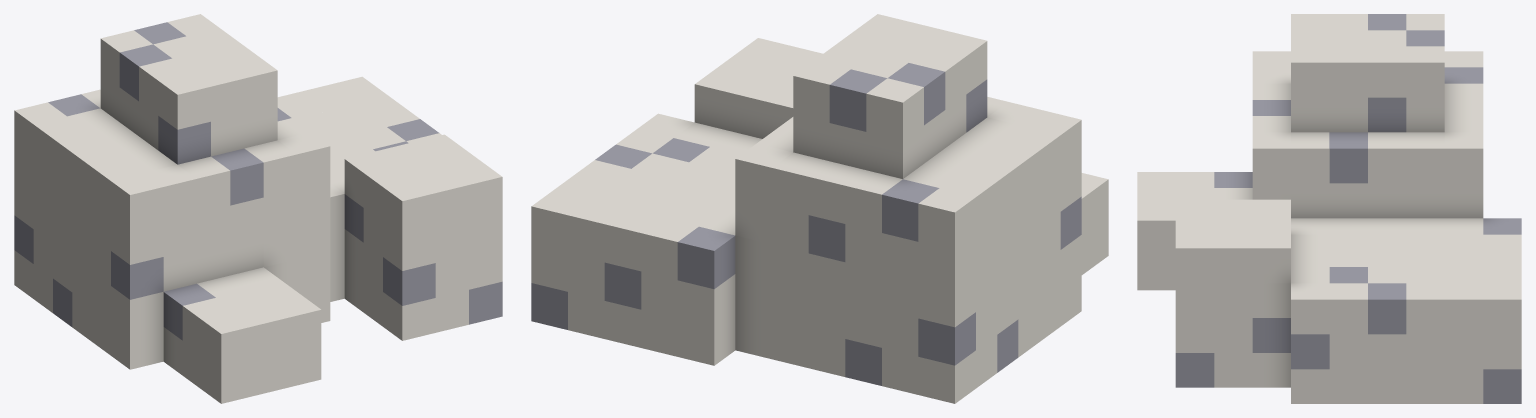
File: r_marble.glb
The picture shows the model from 3 angles, left to right: view 1: azimuth 30°, elevation 25°; view 2: azimuth 150°, elevation 25°; view 3: azimuth 270°, elevation 25°; orthographic projection. The views are drawn at different scales.
Parts seen in each view (by area): view 1: r_marble_body; view 2: r_marble_body; view 3: r_marble_body.
Boxes of the visible parts, x1,y1,x2,y2 form: r_marble_body: (14,14,502,403); r_marble_body: (531,14,1108,403); r_marble_body: (1137,14,1521,403).
Bounding box in the file's own units: 0.6875 × 0.4375 × 0.625.
1 material, 1 textured.
